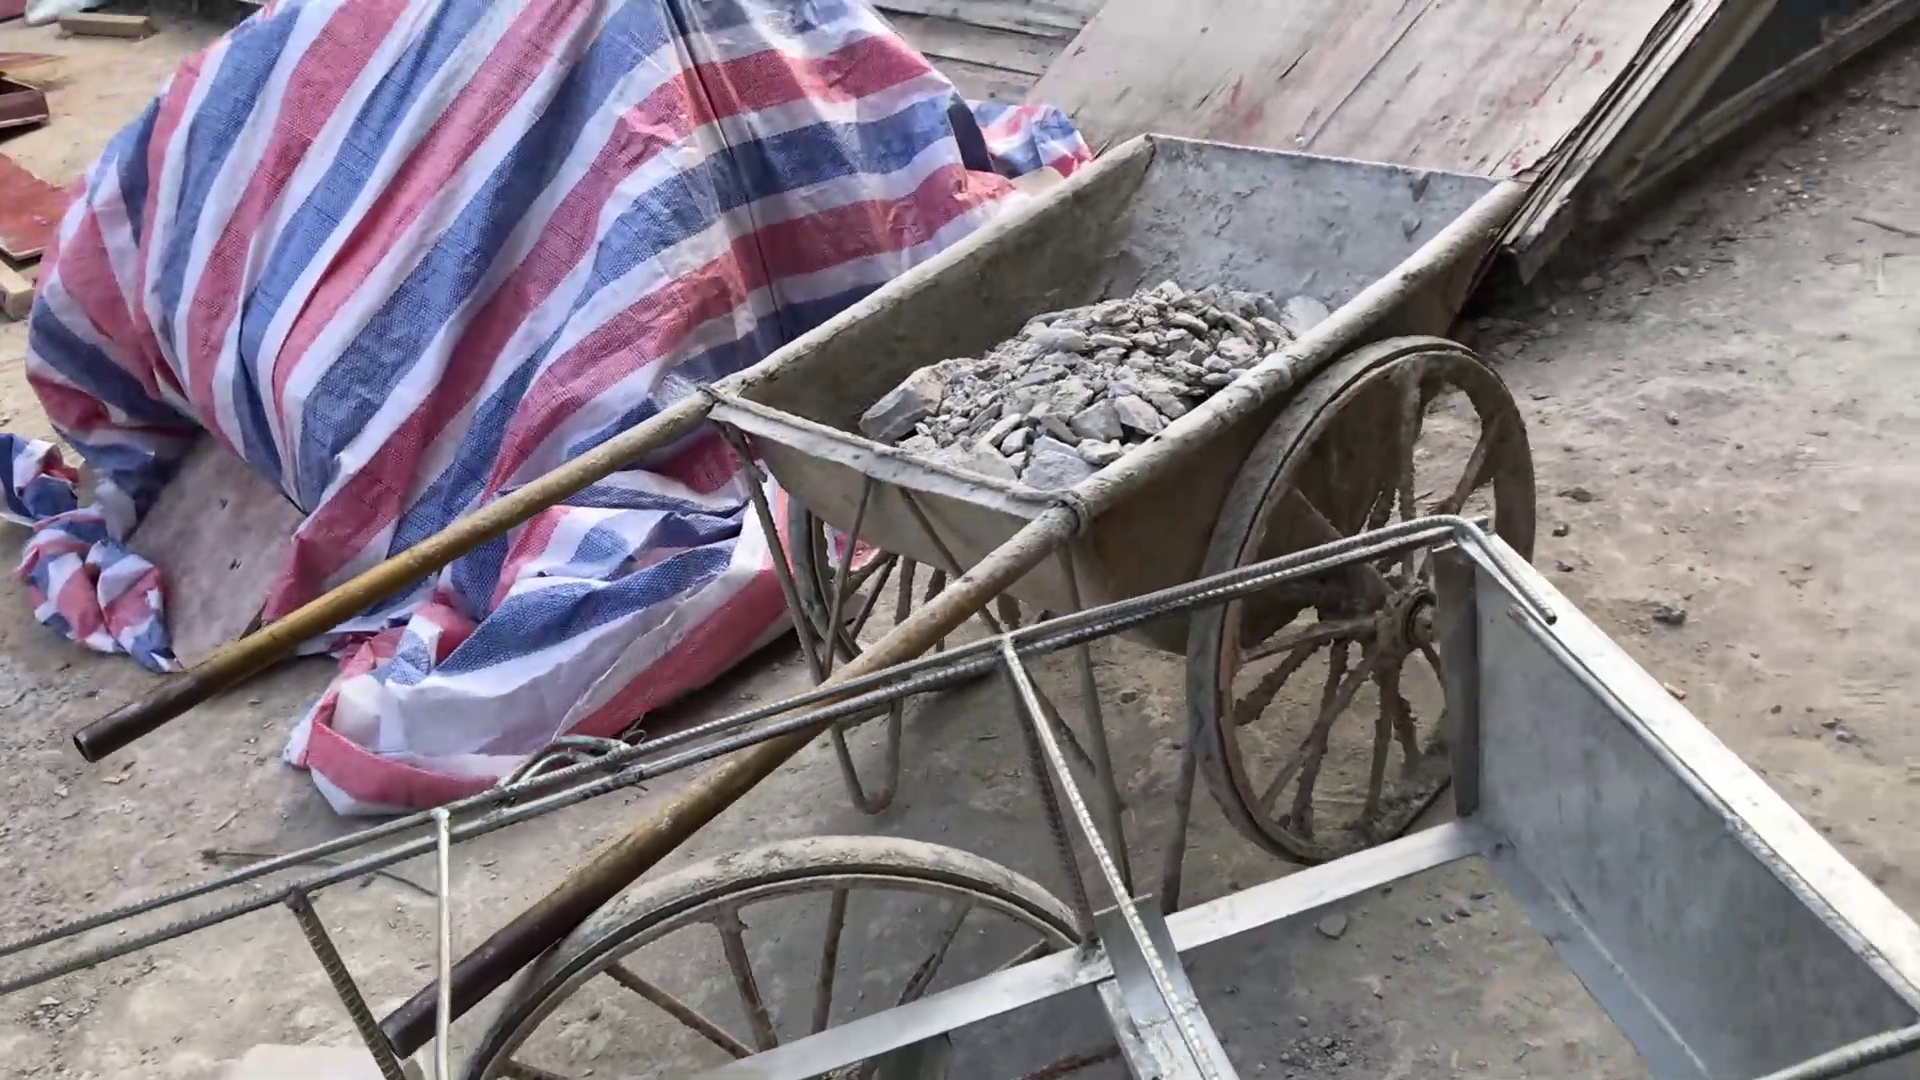handcart: (182, 135, 1604, 891)
